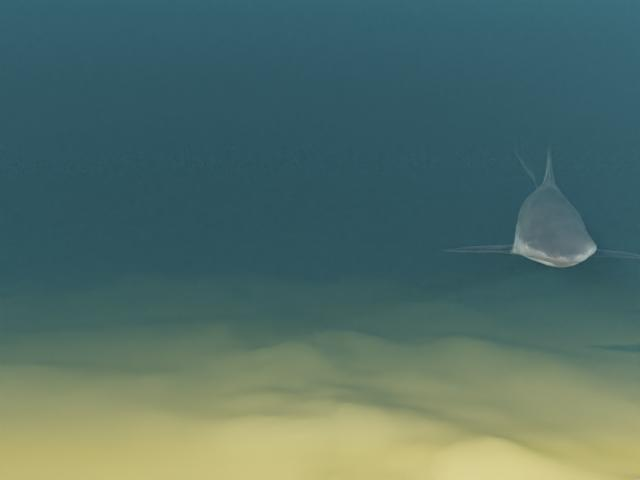Carribean Shark.001: (438, 140, 640, 267)
